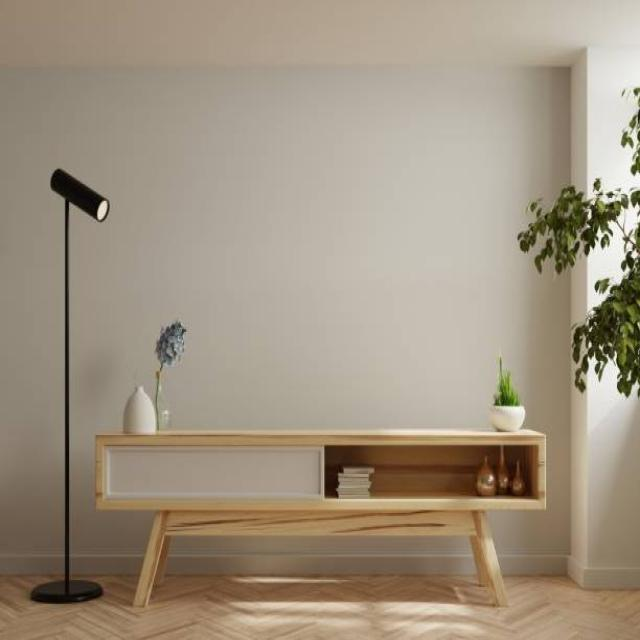table: (93, 426, 547, 608)
